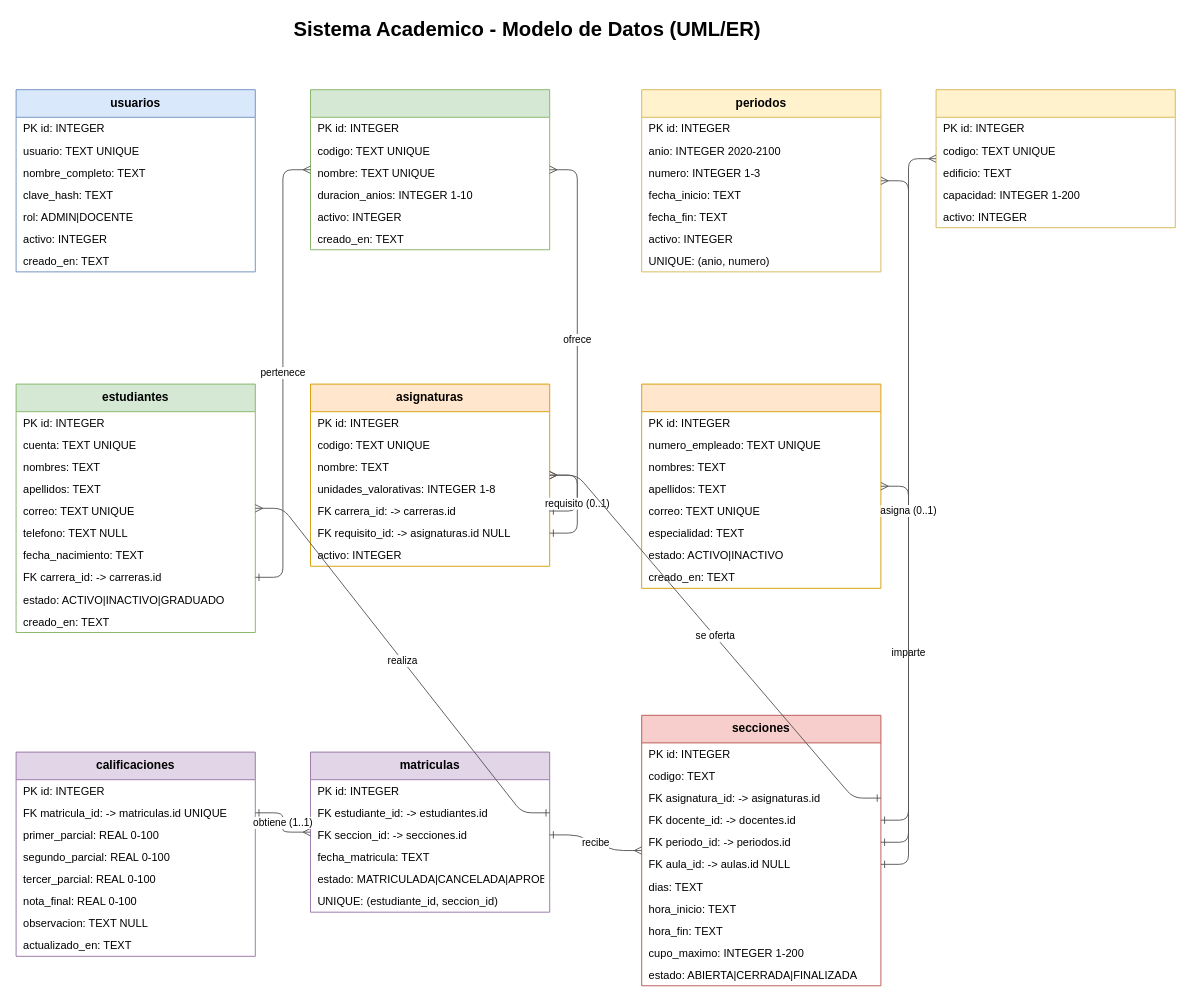
Some shapes in this 1191 by 1002 pixel diagram are drawn without their labels. Here are the shapes that lost their labels. From the top down, the box of each, then its label:
(310, 89, 550, 250): carreras
(935, 89, 1175, 228): aulas
(641, 383, 881, 588): docentes
